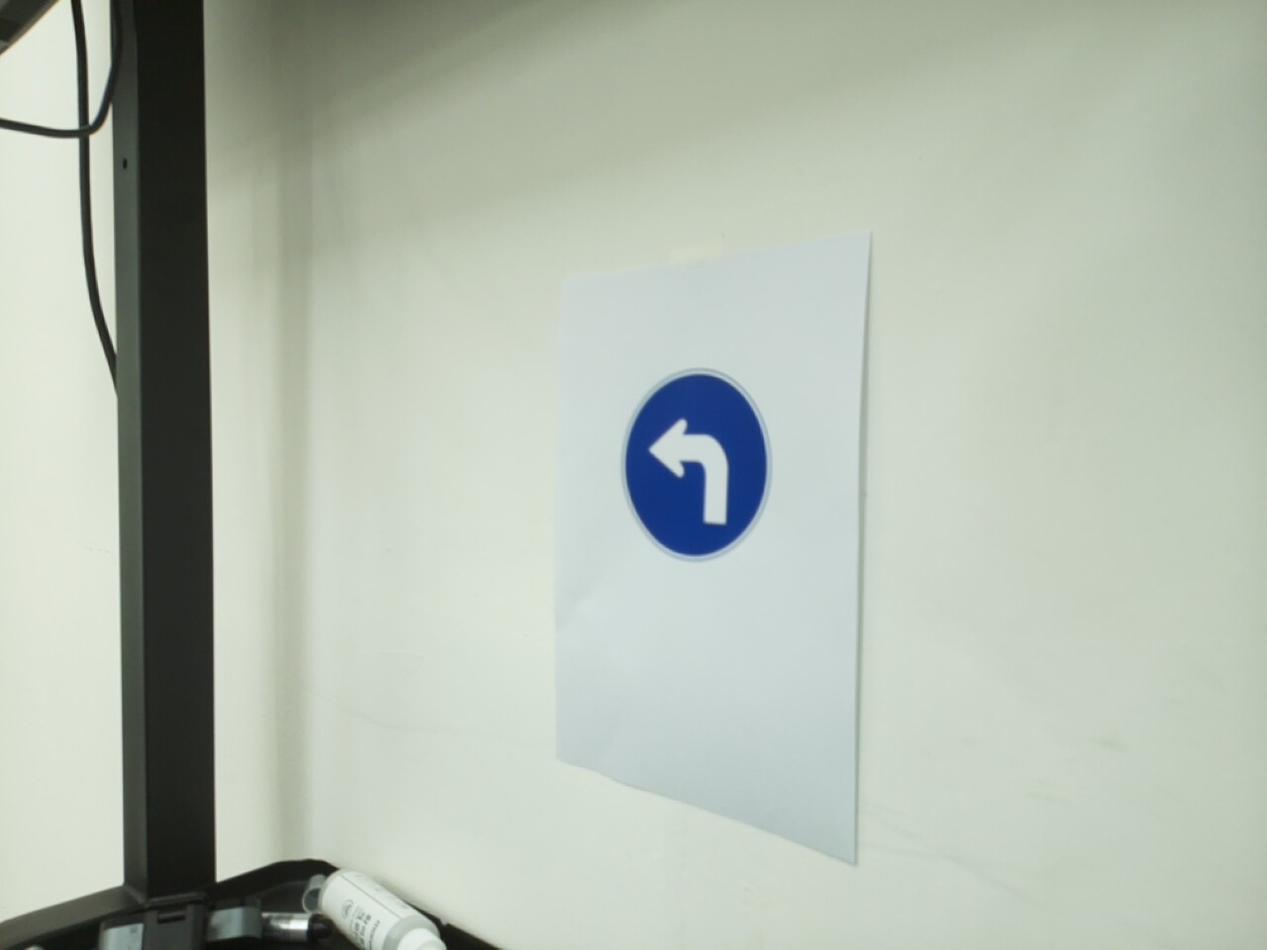left_turn: (619, 367, 774, 563)
